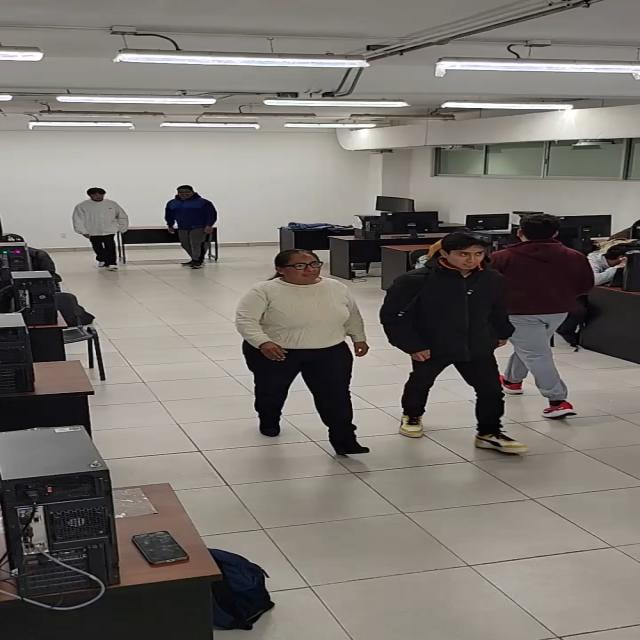Persona: (231, 246, 375, 458), (381, 230, 509, 456), (497, 211, 597, 421), (162, 180, 223, 270), (70, 184, 130, 275)
